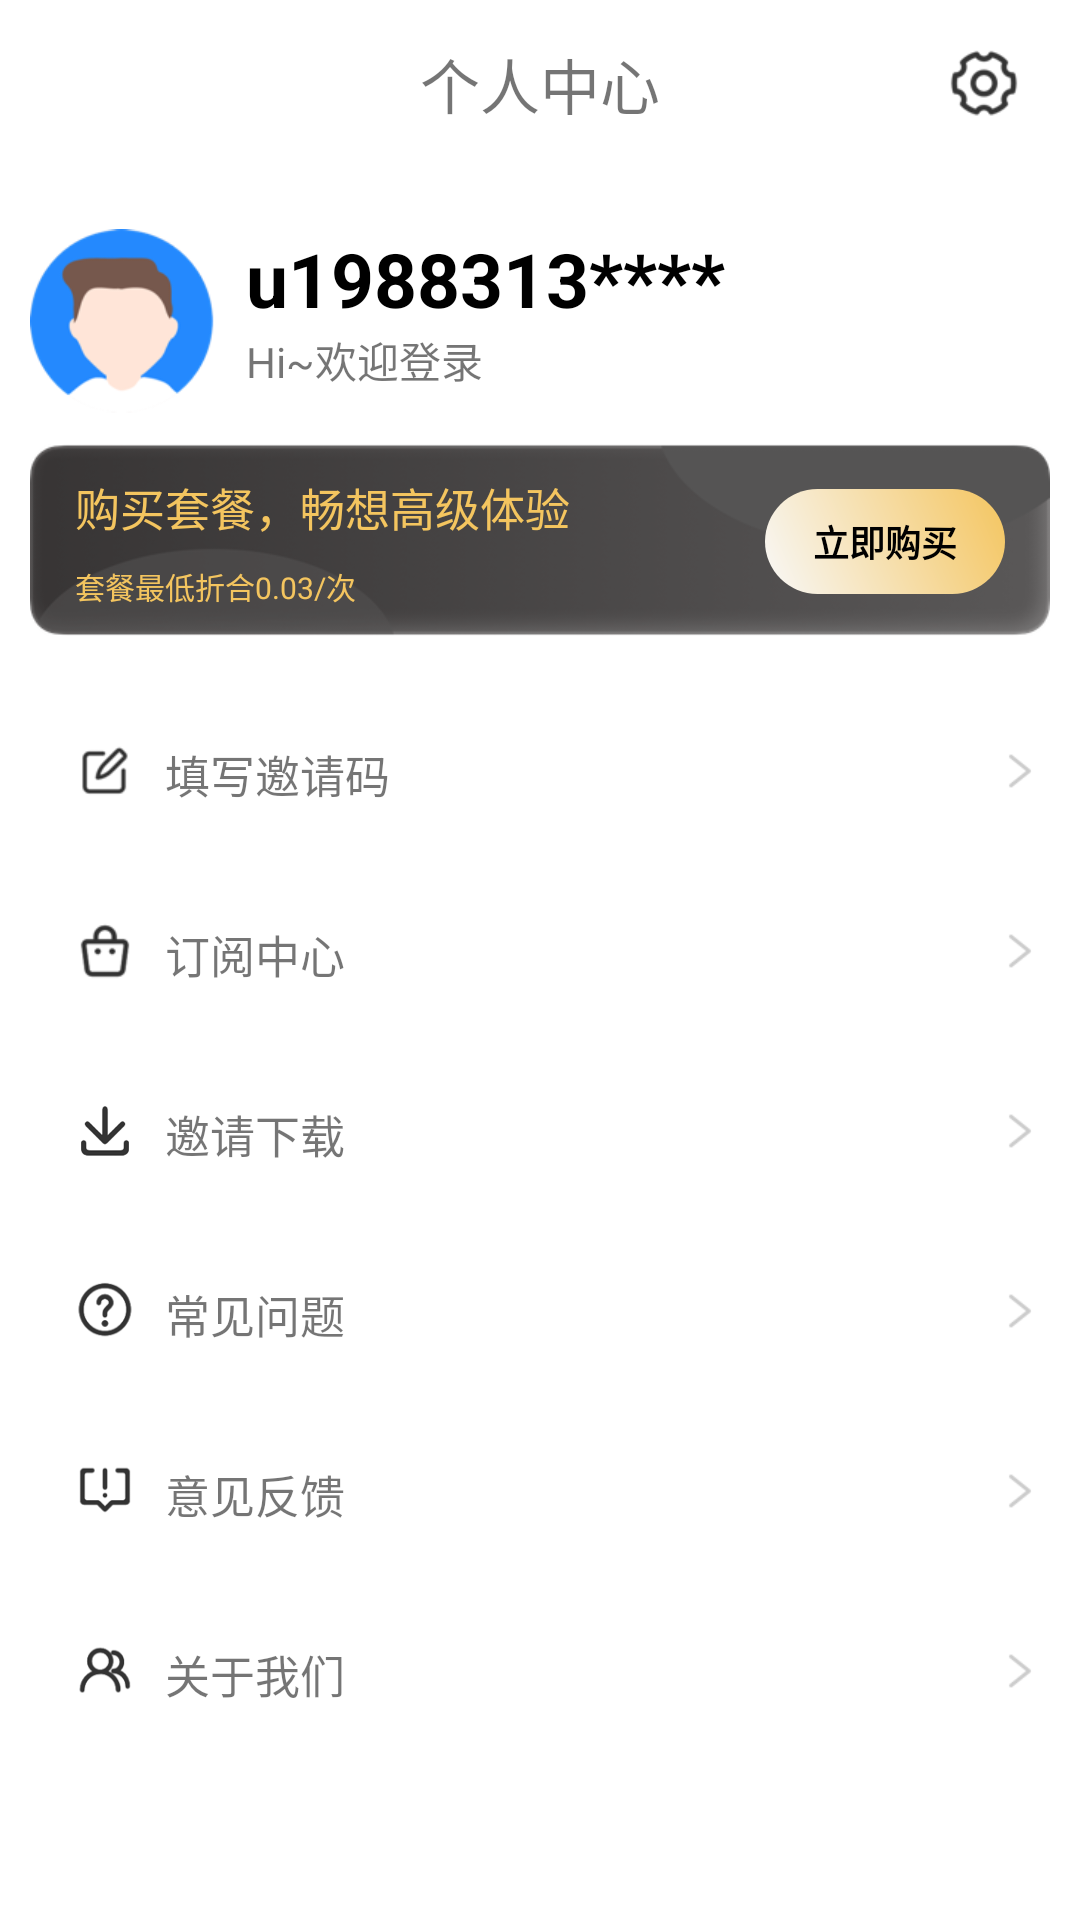

Named icons in this screenshot (1080px x 1920px) and their bounding boxes, (x1, y1, x2, y2):
about us: (79, 1647, 130, 1693)
download: (81, 1106, 129, 1156)
feedback: (80, 1468, 130, 1512)
more: (1009, 755, 1031, 787), (1009, 935, 1031, 967), (1009, 1115, 1031, 1147), (1009, 1295, 1031, 1327), (1009, 1475, 1031, 1507), (1009, 1655, 1031, 1687)
setting: (951, 51, 1017, 116)
